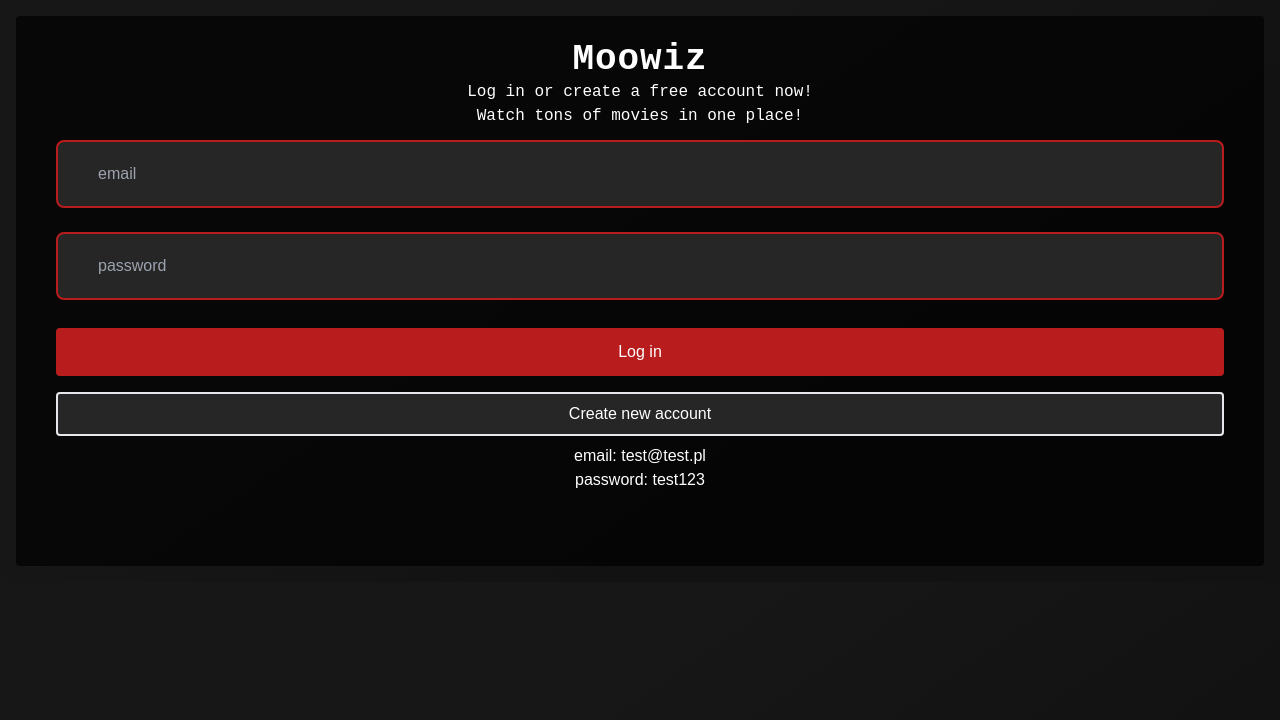
Test: AuthForm › displays a notification when the login is pending
Type "test@test.pl" into the field with placeholder "email" at [640, 174], box left=56, top=140, right=1224, bottom=208
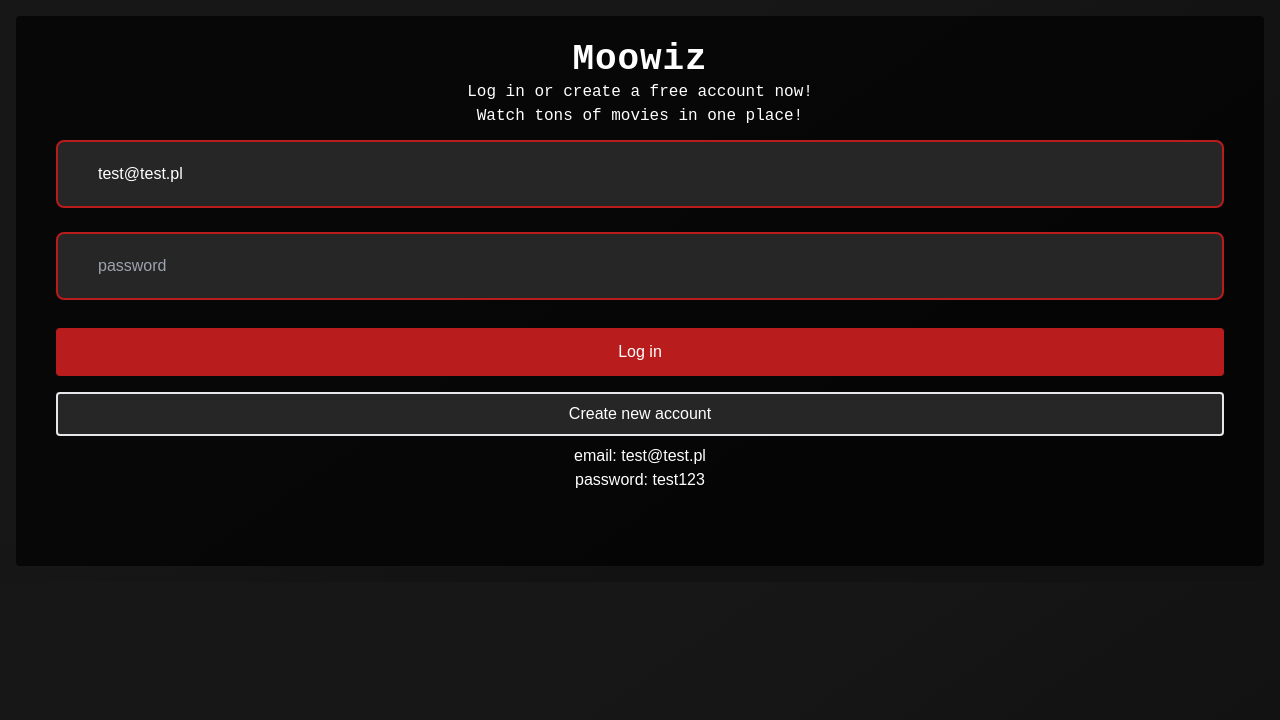
Type "test123" into the password field with placeholder "password" at [640, 266], box left=56, top=232, right=1224, bottom=300
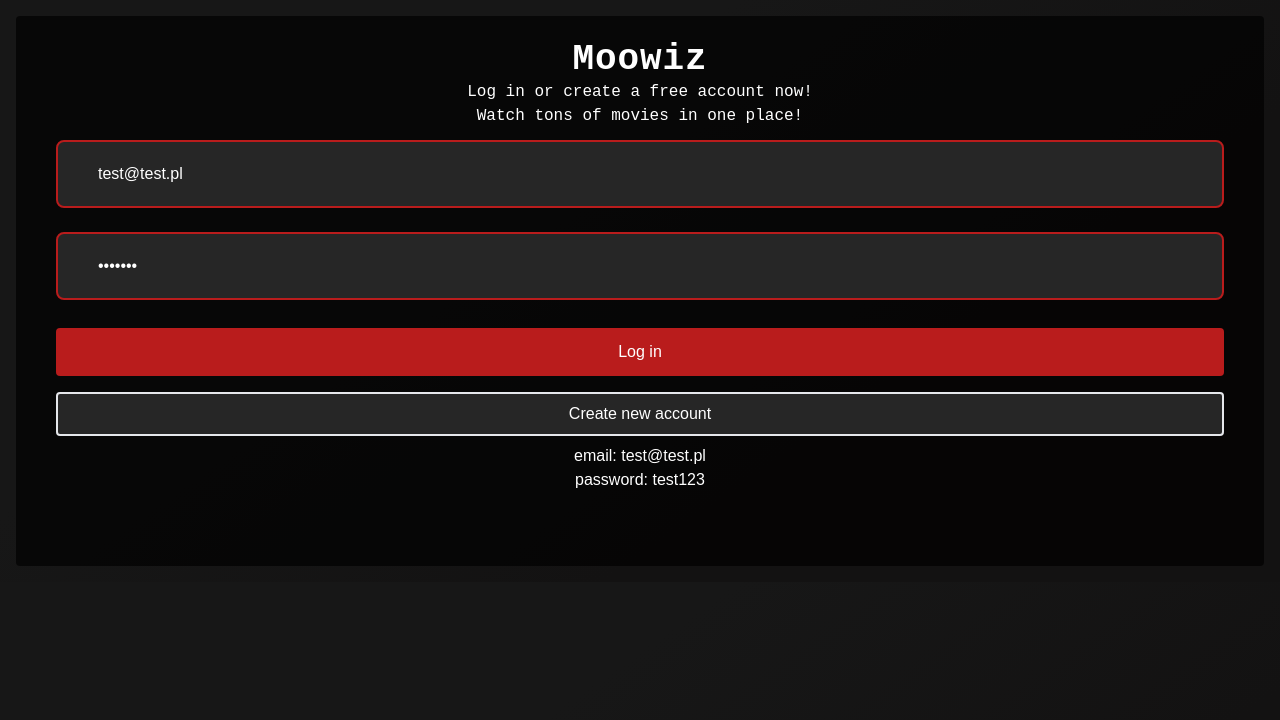
Submit the form, box left=56, top=128, right=1224, bottom=392
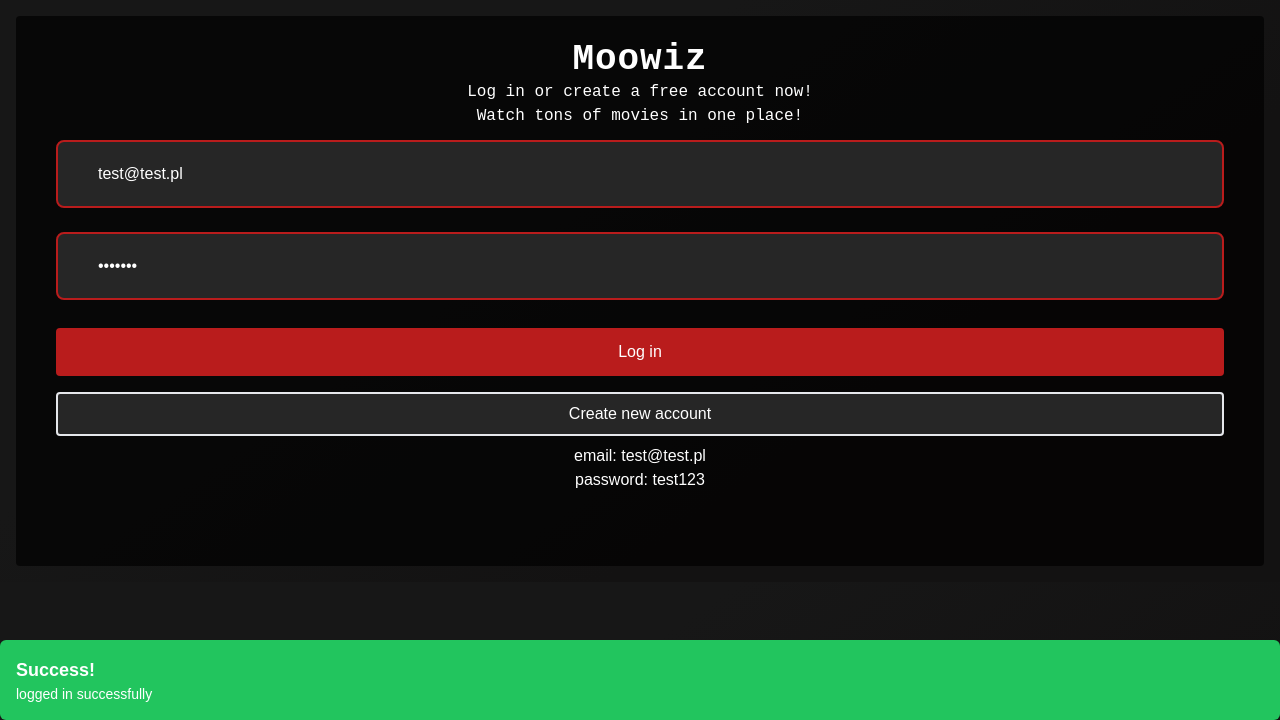
expect the heading "Checking..." is shown: met, box left=16, top=660, right=95, bottom=680
